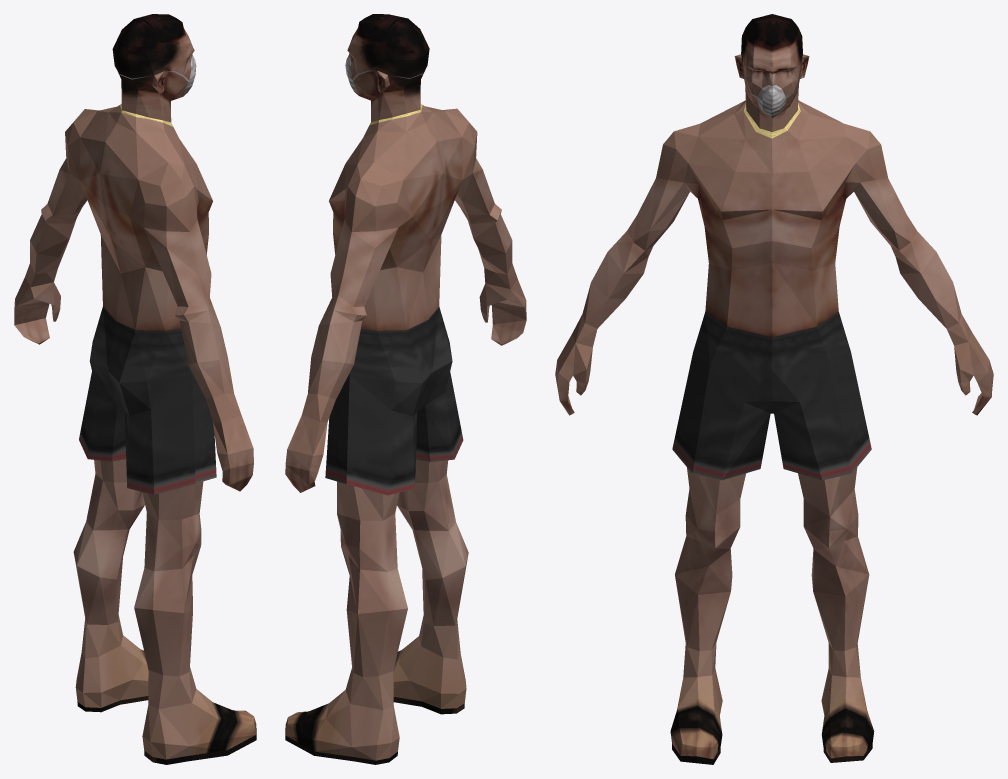
The model's file is hmycm.obj.
The picture shows the model from 3 angles, left to right: view 1: azimuth 30°, elevation 25°; view 2: azimuth 150°, elevation 25°; view 3: azimuth 270°, elevation 25°; orthographic projection.
Parts seen in each view (by area): view 1: _Pelvis; view 2: _Pelvis; view 3: _Pelvis.
Boxes of the visible parts, x1,y1,x2,y2 form: _Pelvis: [14, 14, 256, 764]; _Pelvis: [285, 14, 526, 764]; _Pelvis: [555, 14, 993, 764].
Size of the model in its own units: 0.3285 by 1.85 by 1.02.
Materials: 1 (1 with a texture image).
